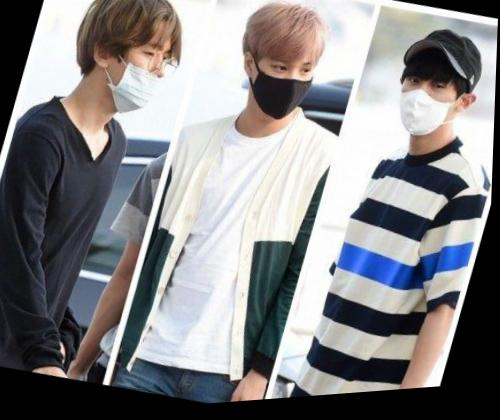OK: (385, 69, 469, 156), (243, 50, 323, 132)
WRONG: (85, 25, 184, 127)
